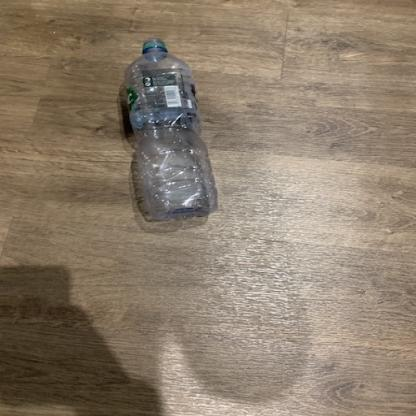trash: (119, 38, 218, 224)
